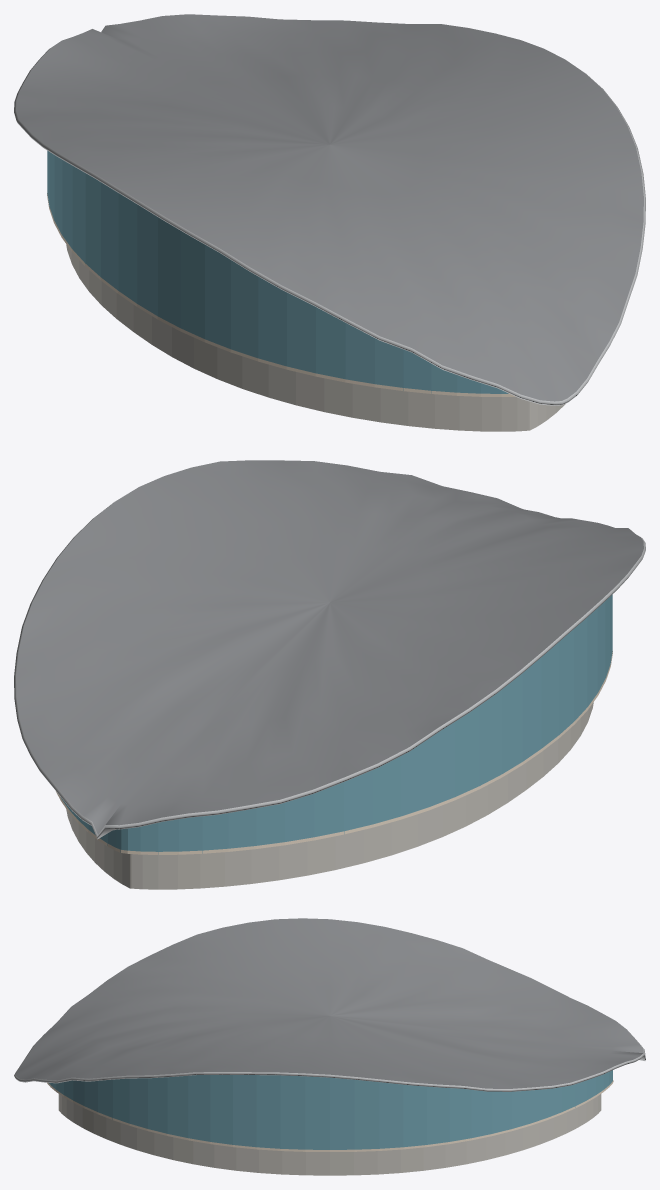
Rendered from london-aquatics-centre.glb.
3 views of the same model, one above another, from view 1: azimuth 30°, elevation 25°; view 2: azimuth 150°, elevation 25°; view 3: azimuth 270°, elevation 25° (orthographic). The views are drawn at different scales.
Visible parts, largest first — view 1: London Aquatics Centre; view 2: London Aquatics Centre; view 3: London Aquatics Centre.
Boxes of the visible parts, box(x1,y1,x2,y2) form: London Aquatics Centre: box(14, 14, 645, 431); London Aquatics Centre: box(14, 460, 645, 889); London Aquatics Centre: box(14, 918, 645, 1175).
Bounding box in the file's own units: 93.7 × 32.03 × 160.
